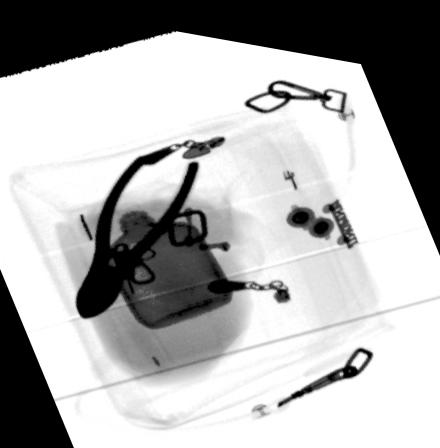Pliers: (73, 150, 200, 316)
